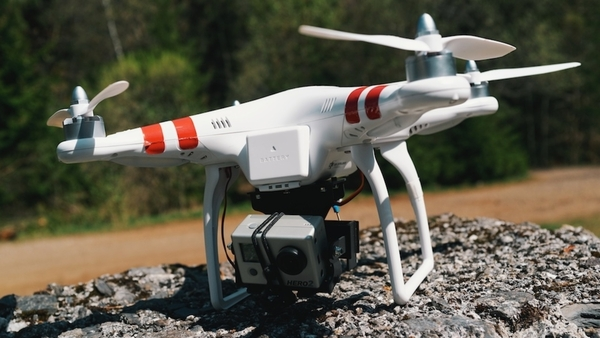drone: (45, 11, 583, 310)
